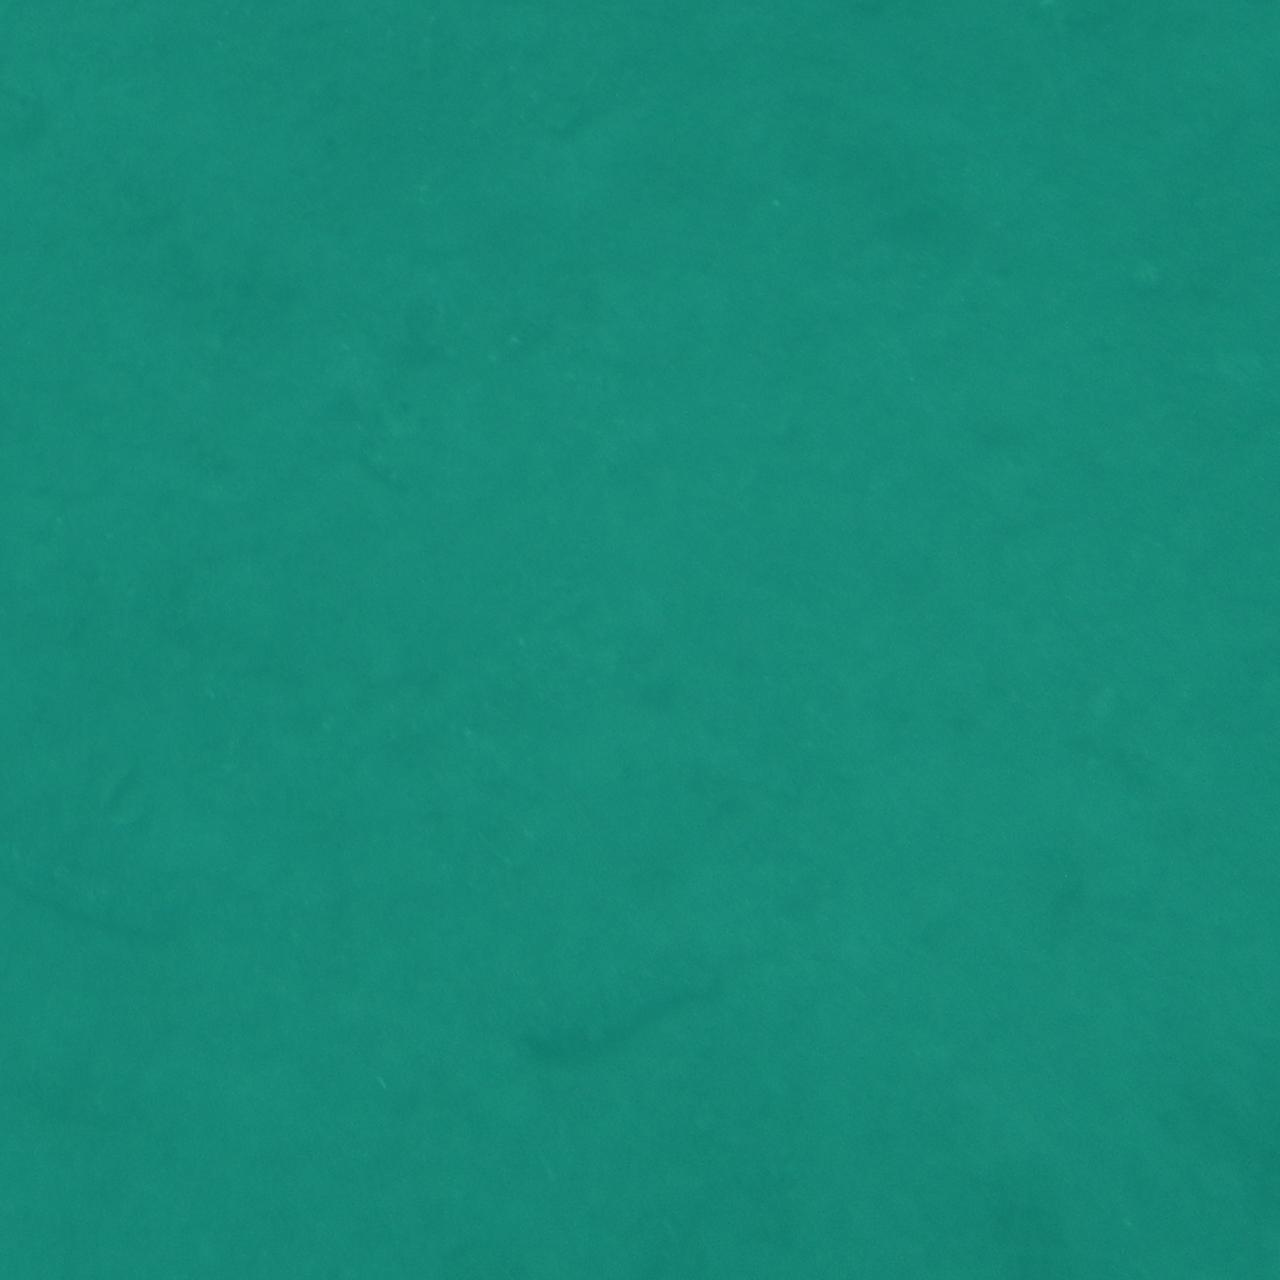Holothuria tubulosa: (506, 953, 774, 1091)
